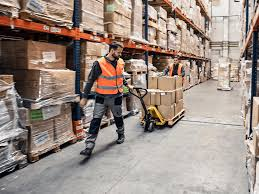Pallet Jack: (127, 86, 186, 132)
